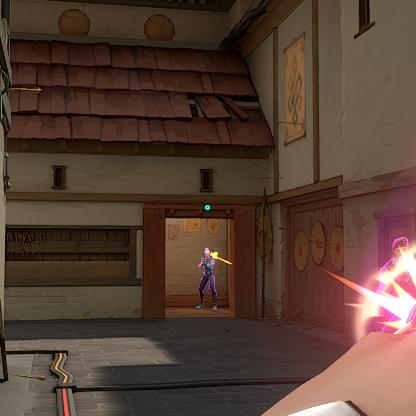enemyBody: (203, 259, 212, 276)
enemyHead: (205, 251, 210, 258)
